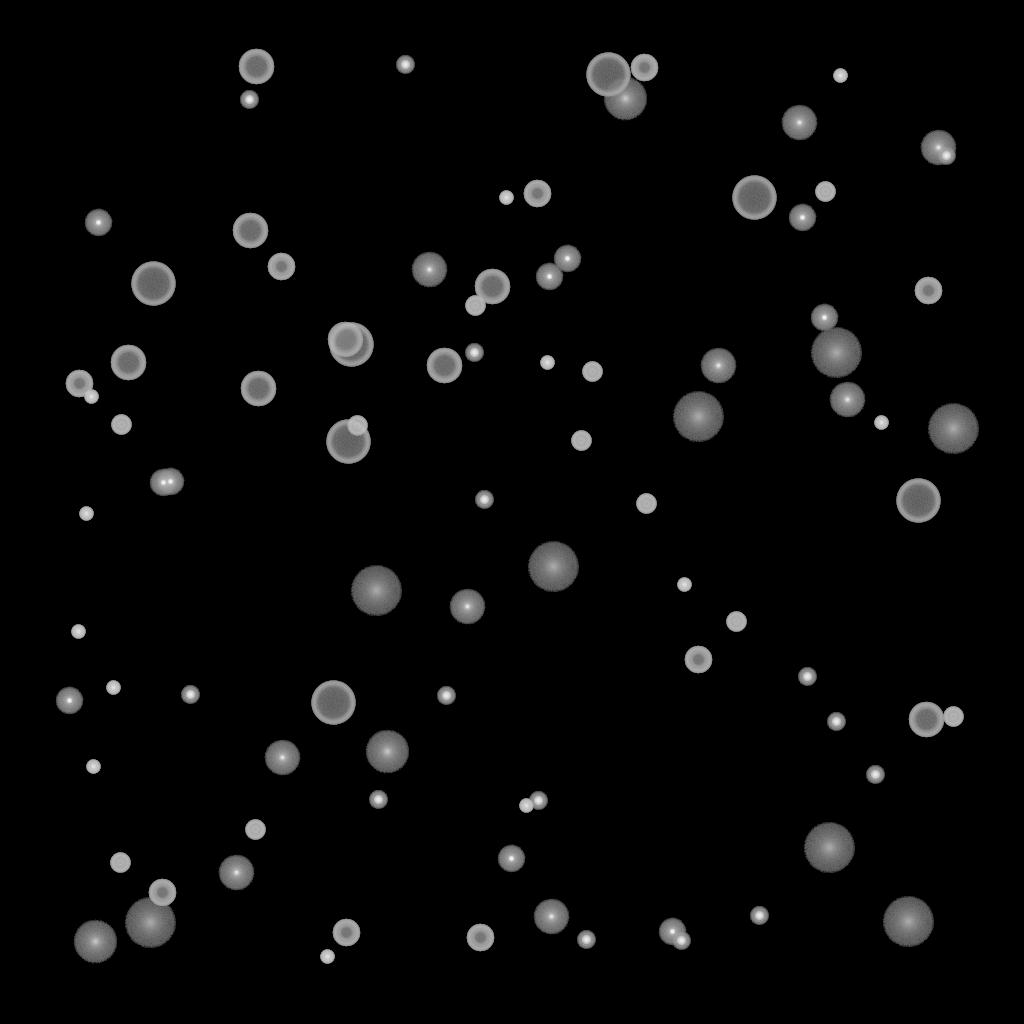depth:-10: (149, 469, 177, 497), (55, 687, 83, 715), (156, 468, 184, 496), (84, 209, 112, 237), (788, 204, 816, 232), (658, 918, 686, 946), (535, 263, 563, 291), (553, 245, 581, 273), (810, 304, 838, 332), (497, 845, 525, 873)
depth:-20: (475, 491, 493, 509), (750, 907, 768, 925), (798, 668, 816, 686), (937, 147, 955, 165), (437, 687, 455, 705), (866, 766, 884, 784), (181, 686, 199, 704), (672, 932, 690, 950), (396, 56, 414, 74), (369, 791, 387, 809), (529, 792, 547, 810), (577, 931, 595, 949), (827, 713, 845, 731), (465, 344, 483, 362), (240, 91, 258, 109)
depth:-30: (79, 507, 93, 521), (499, 191, 513, 205), (874, 416, 888, 430), (86, 760, 100, 774), (677, 578, 691, 592), (84, 390, 98, 404), (833, 69, 847, 83), (540, 356, 554, 370), (519, 799, 533, 813), (71, 625, 85, 639), (106, 681, 120, 695), (320, 950, 334, 964)
depth:-40: (726, 612, 746, 632), (582, 362, 602, 382), (110, 853, 130, 873), (465, 296, 485, 316), (636, 494, 656, 514), (571, 431, 591, 451), (245, 820, 265, 840), (943, 707, 963, 727), (111, 415, 131, 435), (815, 182, 835, 202), (347, 416, 367, 436)
depth:-50: (267, 253, 295, 281), (523, 180, 551, 208), (914, 277, 942, 305), (630, 54, 658, 82), (65, 370, 93, 398), (148, 879, 176, 907), (466, 924, 494, 952), (332, 919, 360, 947), (684, 646, 712, 674)
depth:-60: (238, 49, 274, 85), (232, 213, 268, 249), (908, 702, 944, 738), (426, 348, 462, 384), (240, 371, 276, 407), (110, 345, 146, 381), (327, 322, 363, 358), (474, 269, 510, 305)
depth:-70: (131, 262, 175, 306), (896, 479, 940, 523), (311, 681, 355, 725), (329, 323, 373, 367), (732, 176, 776, 220), (326, 420, 370, 464), (586, 53, 630, 97)
depth:0: (700, 348, 736, 384), (920, 130, 956, 166), (449, 589, 485, 625), (411, 252, 447, 288), (781, 105, 817, 141), (264, 740, 300, 776), (533, 899, 569, 935), (218, 855, 254, 891), (829, 382, 865, 418)
depth:10: (73, 920, 117, 964), (603, 77, 647, 121), (365, 730, 409, 774)
depth:20: (672, 392, 724, 442), (527, 542, 579, 592), (882, 897, 934, 947), (350, 566, 402, 616), (927, 404, 979, 454), (810, 328, 862, 378), (124, 898, 176, 948), (803, 823, 855, 873)
